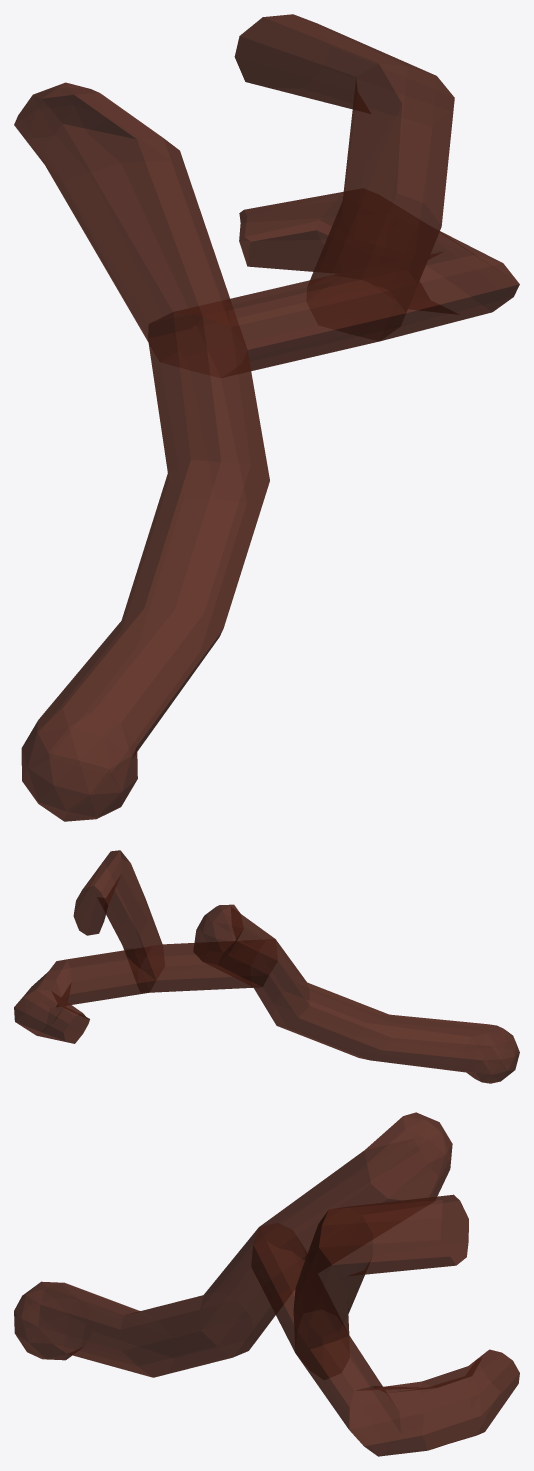
Rendered from rightArm.obj.
3 renders of one model, top to bottom at view 1: azimuth 30°, elevation 25°; view 2: azimuth 150°, elevation 25°; view 3: azimuth 270°, elevation 25°, orthographic. The views are drawn at different scales.
Visible parts, largest first — view 1: Cylinder.031; view 2: Cylinder.031; view 3: Cylinder.031.
Part boxes in pixels (x1,y1,x2,y2): Cylinder.031: [14, 14, 519, 821]; Cylinder.031: [14, 850, 519, 1083]; Cylinder.031: [14, 1112, 519, 1456].
Size of the model in its own units: 2.51 by 1.6 by 2.26.
